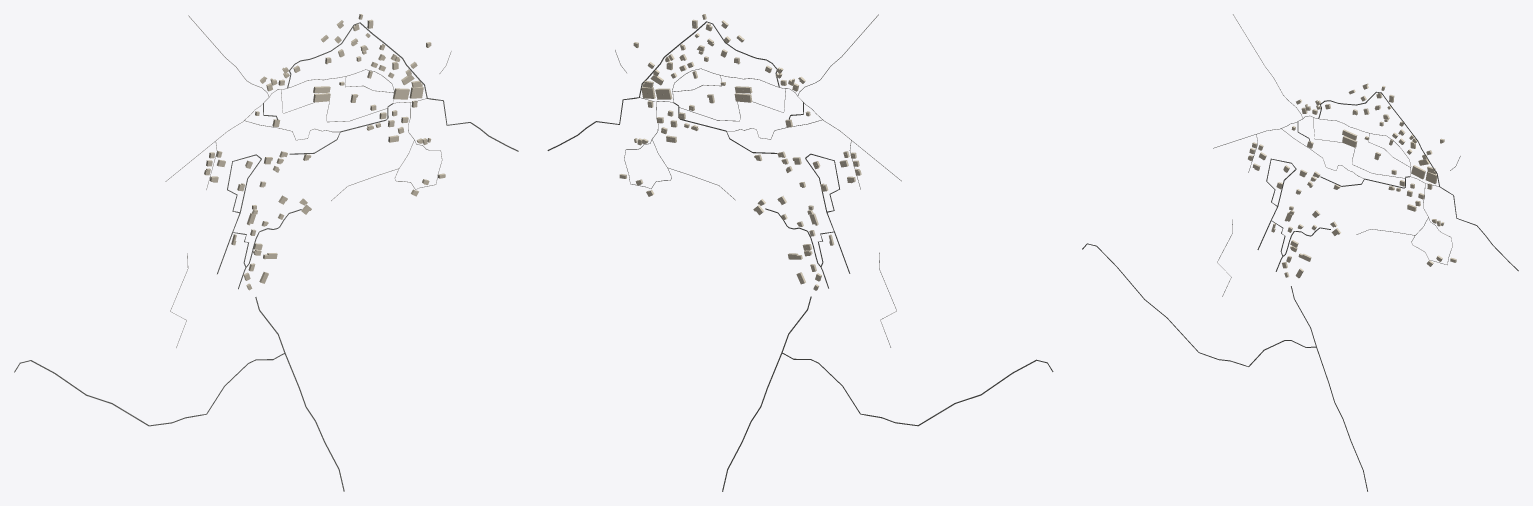
Rendered from historic-palestine-10_22_3519_3164.glb.
3 views of the same model, side by side, from view 1: azimuth 30°, elevation 25°; view 2: azimuth 150°, elevation 25°; view 3: azimuth 330°, elevation 25° (orthographic). The views are drawn at different scales.
Parts seen in each view (by area): view 1: Road .001; view 2: no part large enough to name; view 3: no part large enough to name.
Boxes of the visible parts, x1,y1,x2,y2 form: Road .001: (14, 353, 284, 426).
Bounding box in the file's own units: 1513 × 1473 × 8.7.
